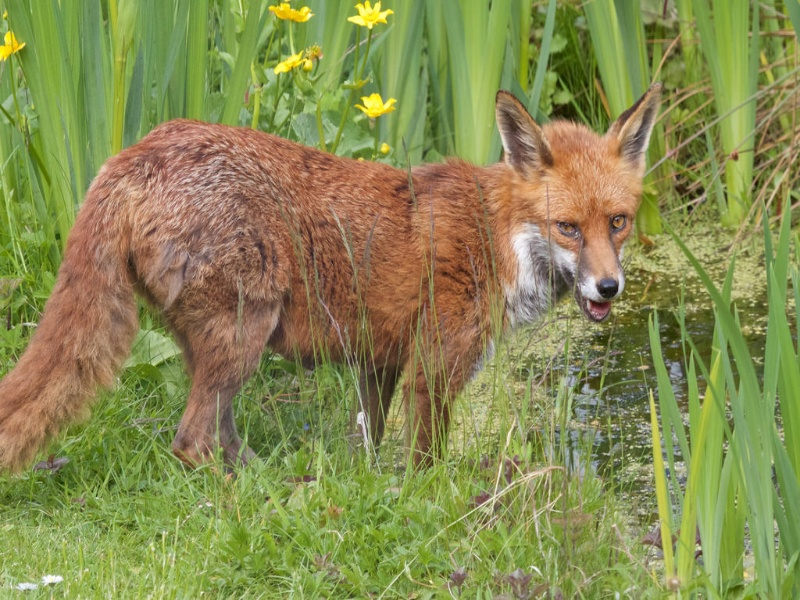fox: (1, 81, 671, 501)
